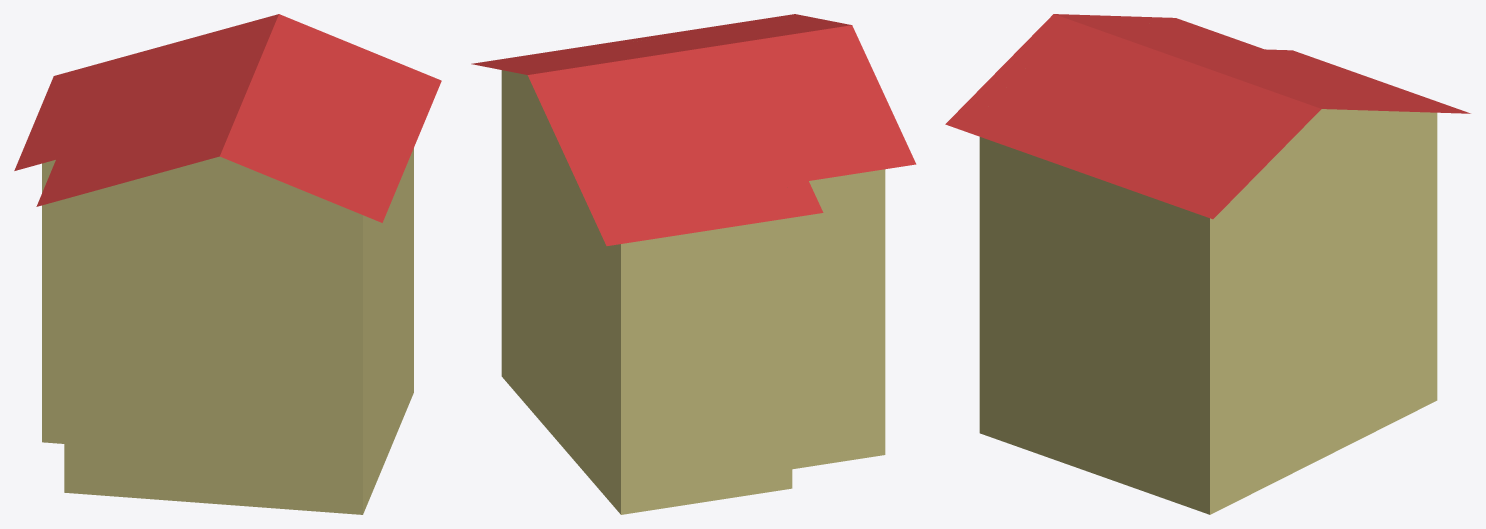
3 views of the same model, side by side, from view 1: azimuth 30°, elevation 25°; view 2: azimuth 150°, elevation 25°; view 3: azimuth 270°, elevation 25° (orthographic). The views are drawn at different scales.
Parts seen in each view (by area): view 1: group_5, group_3, group_4; view 2: group_5, group_3, group_4; view 3: group_5, group_3, group_4.
Boxes of the visible parts, x1,y1,x2,y2 form: group_5: (42,148,413,514); group_3: (42,14,440,203); group_4: (14,14,441,222); group_5: (501,70,885,514); group_3: (471,19,911,245); group_4: (471,14,915,245); group_5: (979,109,1437,514); group_3: (980,14,1436,218); group_4: (945,14,1470,218).
Bounding box in the file's own units: 15.24 × 16.06 × 12.31.
